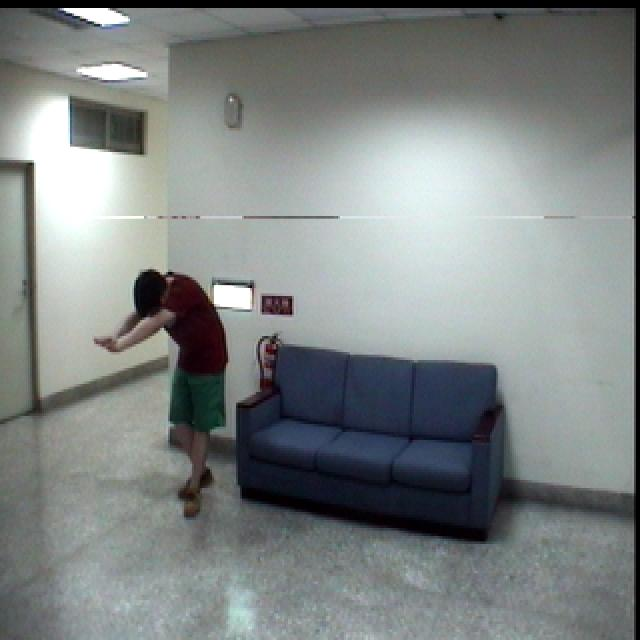bend: (114, 261, 231, 521)
